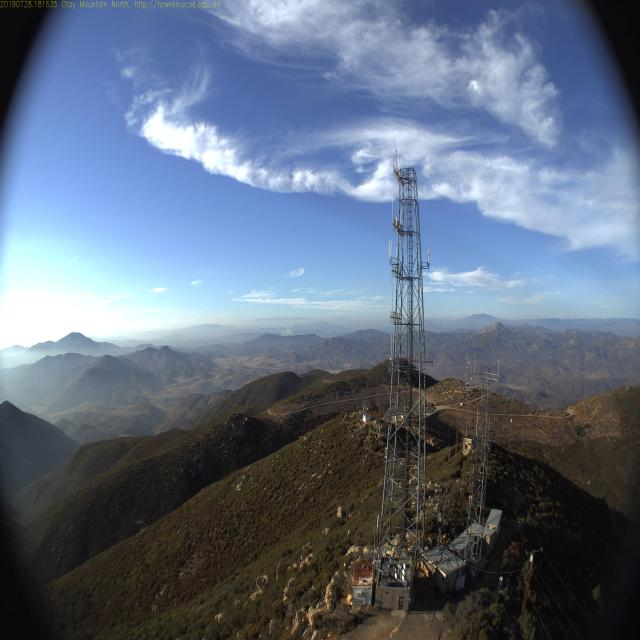smoke: (277, 325, 298, 343)
